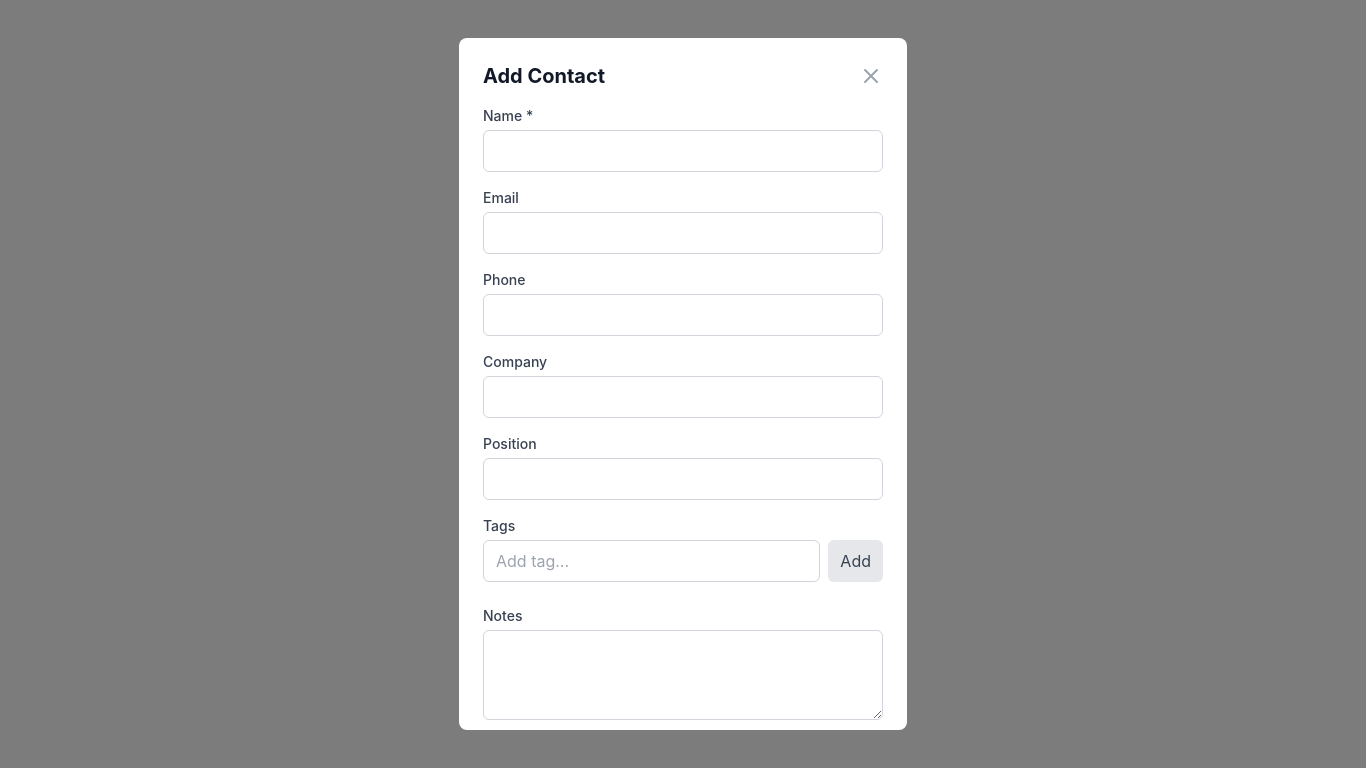
Scenario: ContactForm › Form Interactions › should trim whitespace from tags
The width and height of the screenshot is (1366, 768).
Add tag with whitespace
Type "  client  " into the field with placeholder "Add tag...". click: (652, 561)
box: [483, 540, 820, 582]
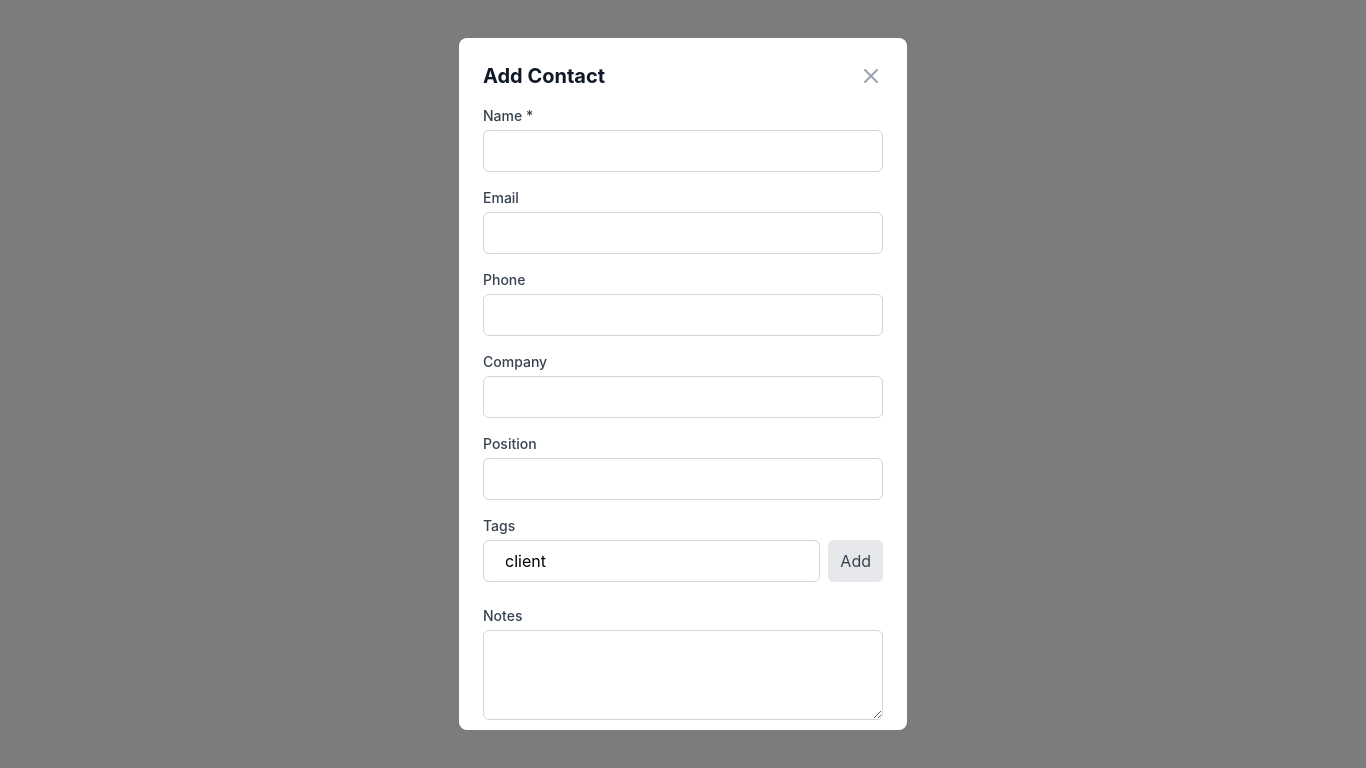
Click the button "Add". click: click(856, 561)
box: [828, 540, 883, 582]
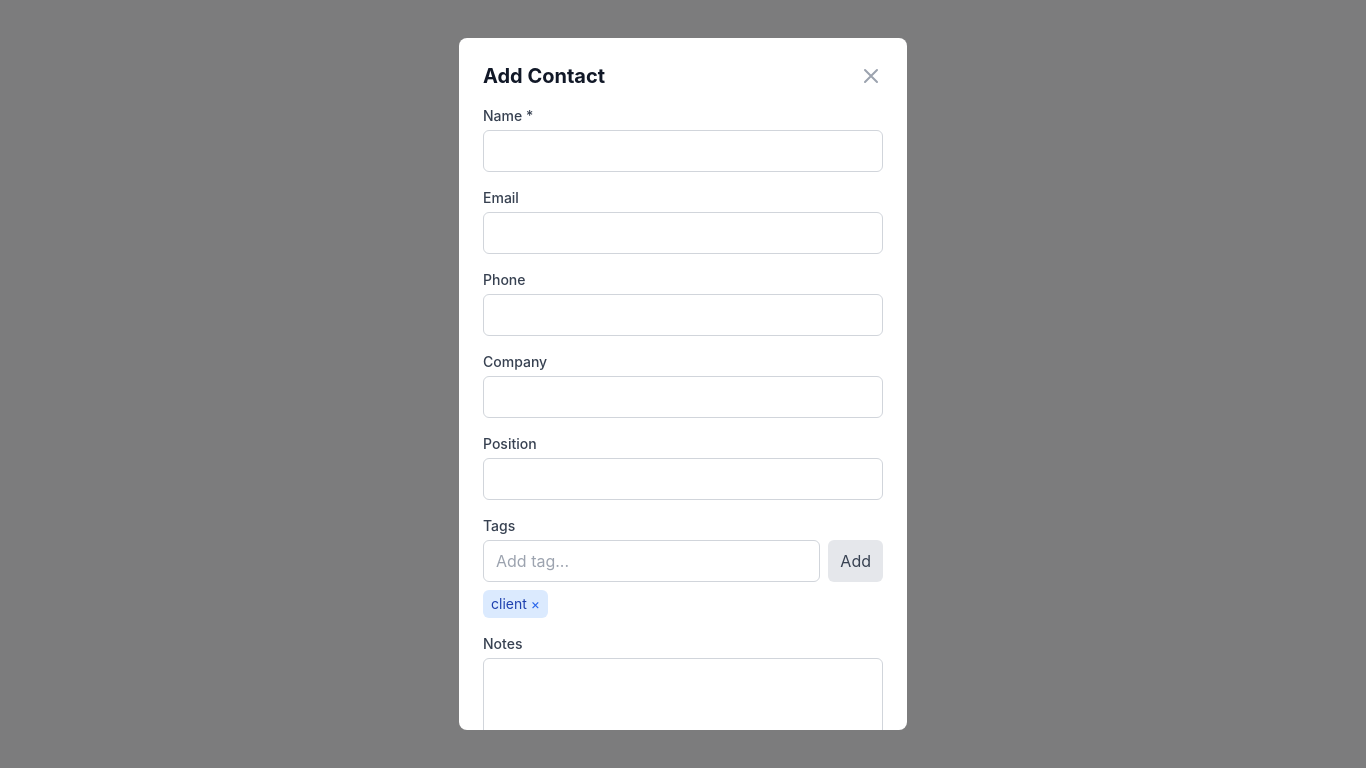
Result: the text "client" is shown at [491, 595, 527, 612]
